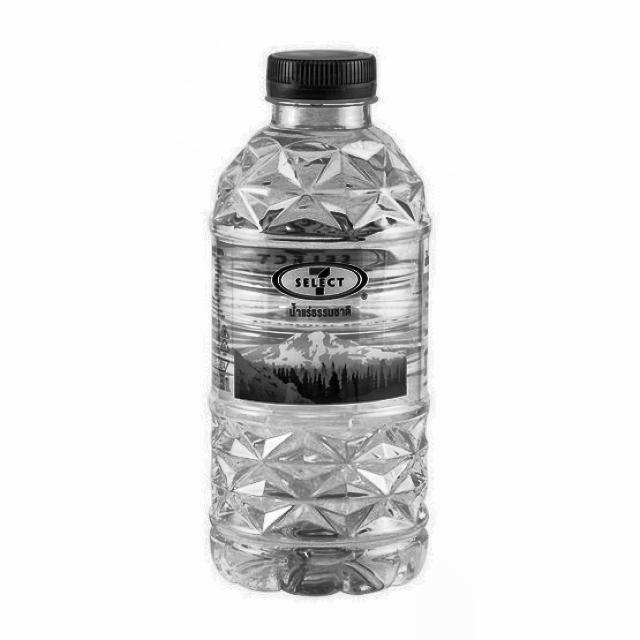waterbottle: (211, 50, 431, 596)
